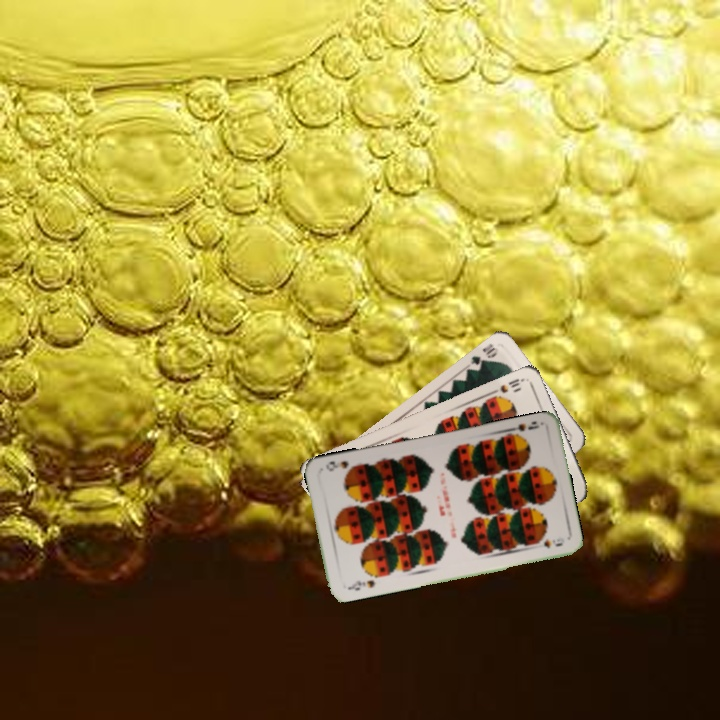G10: (466, 339, 501, 370)
S10: (487, 374, 526, 402)
S9: (503, 417, 544, 441), (344, 576, 378, 593)
